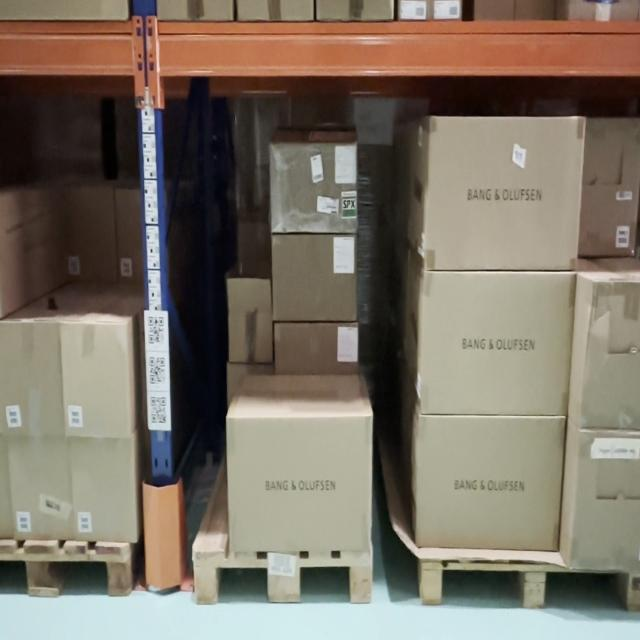box: (433, 118, 575, 267), (421, 274, 566, 412), (229, 414, 374, 550), (417, 420, 558, 545), (570, 430, 640, 571), (579, 280, 640, 431), (271, 146, 356, 230), (274, 236, 355, 320), (66, 325, 128, 434), (4, 322, 58, 436), (75, 442, 136, 540), (13, 439, 72, 536), (65, 189, 116, 280), (275, 326, 358, 371), (116, 191, 145, 284), (230, 312, 272, 359)
